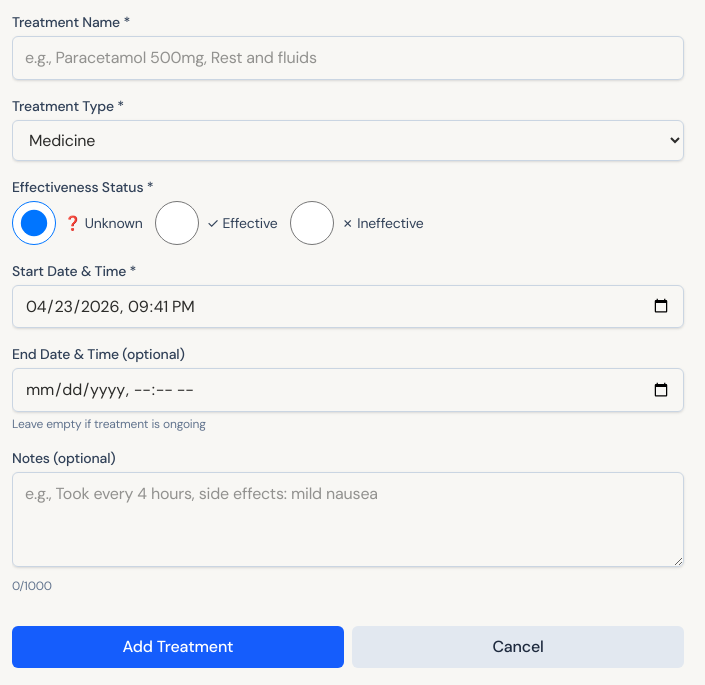
Test case: TreatmentForm Component › Notes Field › should display notes character count
This screenshot has width=705, height=685.
Type "Test notes" into the text box labelled "Notes (optional)" at [348, 519], box x1=12 y1=472 x2=684 y2=567
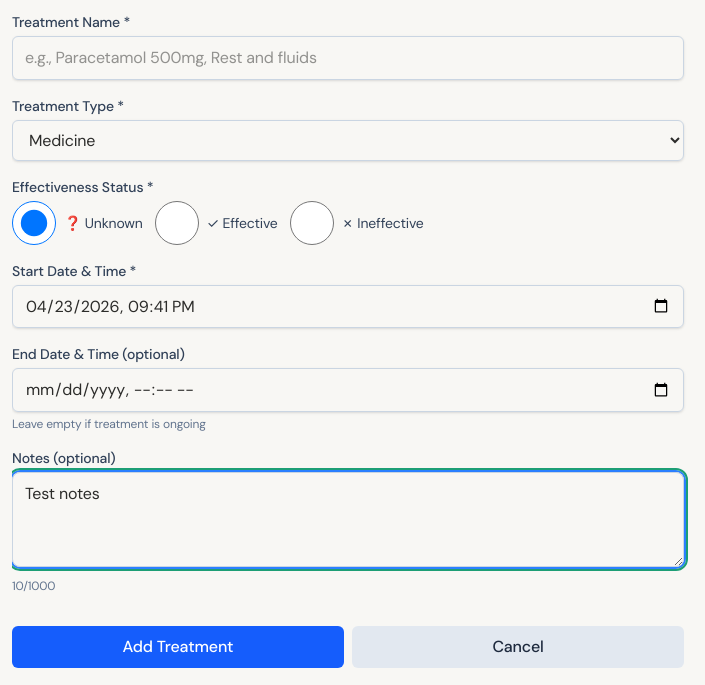
Expected: the text "10/1000" is shown, x1=12 y1=578 x2=55 y2=594
